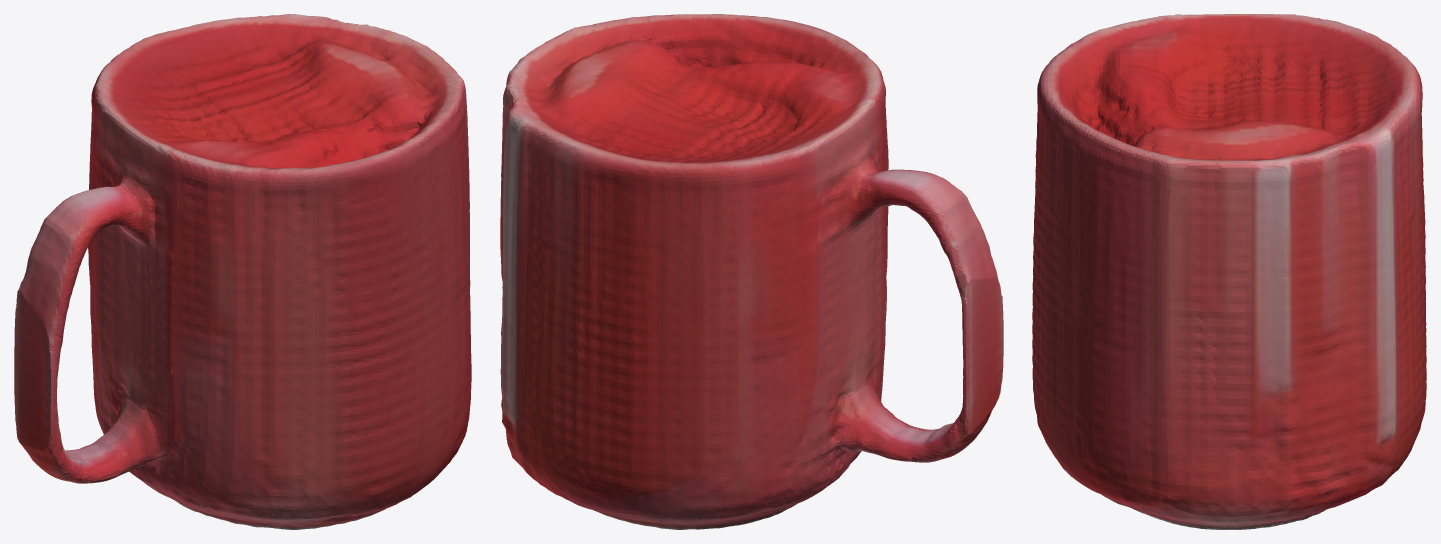
Rendered from tmp15_mcz1s.glb.
3 views of the same model, side by side, from view 1: azimuth 30°, elevation 25°; view 2: azimuth 150°, elevation 25°; view 3: azimuth 270°, elevation 25° (orthographic).
Parts seen in each view (by area): view 1: world; view 2: world; view 3: world.
Part boxes in pixels (bbox=[...]): world: bbox=[14, 14, 471, 529]; world: bbox=[500, 14, 1003, 529]; world: bbox=[1032, 14, 1426, 529].
Size of the model in its own units: 1.97 by 1.67 by 1.54.
